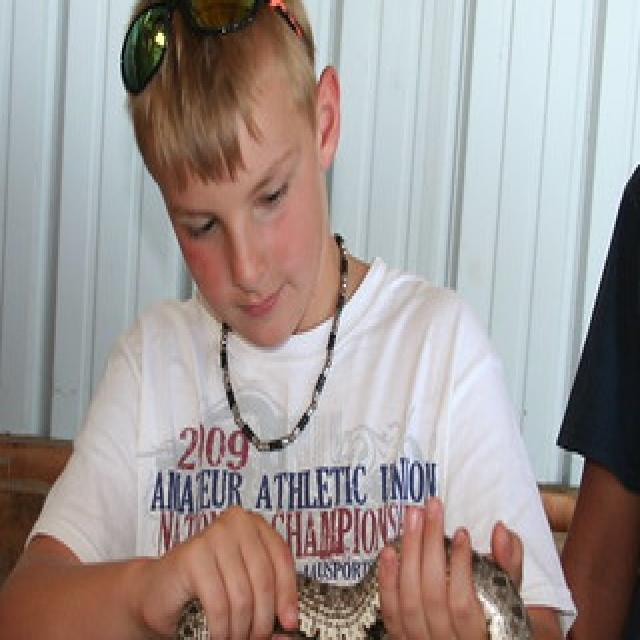Snake: (90, 526, 536, 640)
